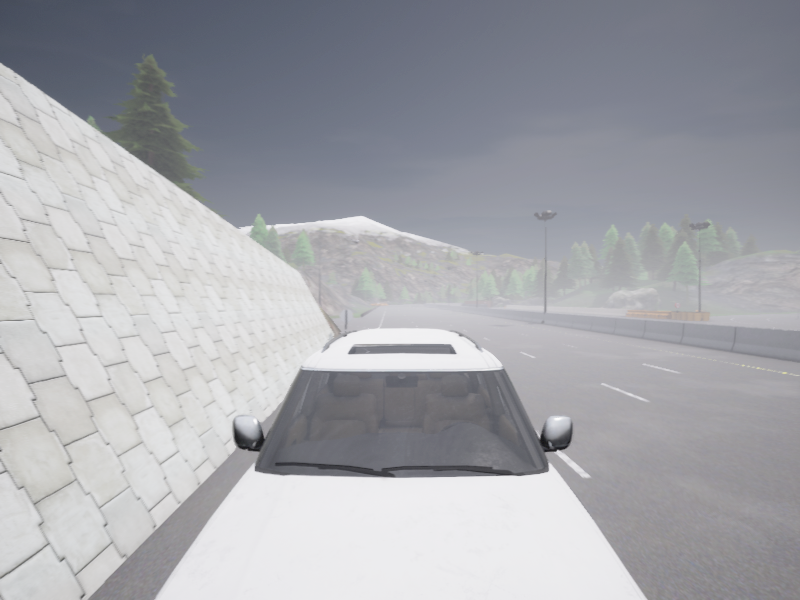vehicle: (154, 328, 647, 599)
